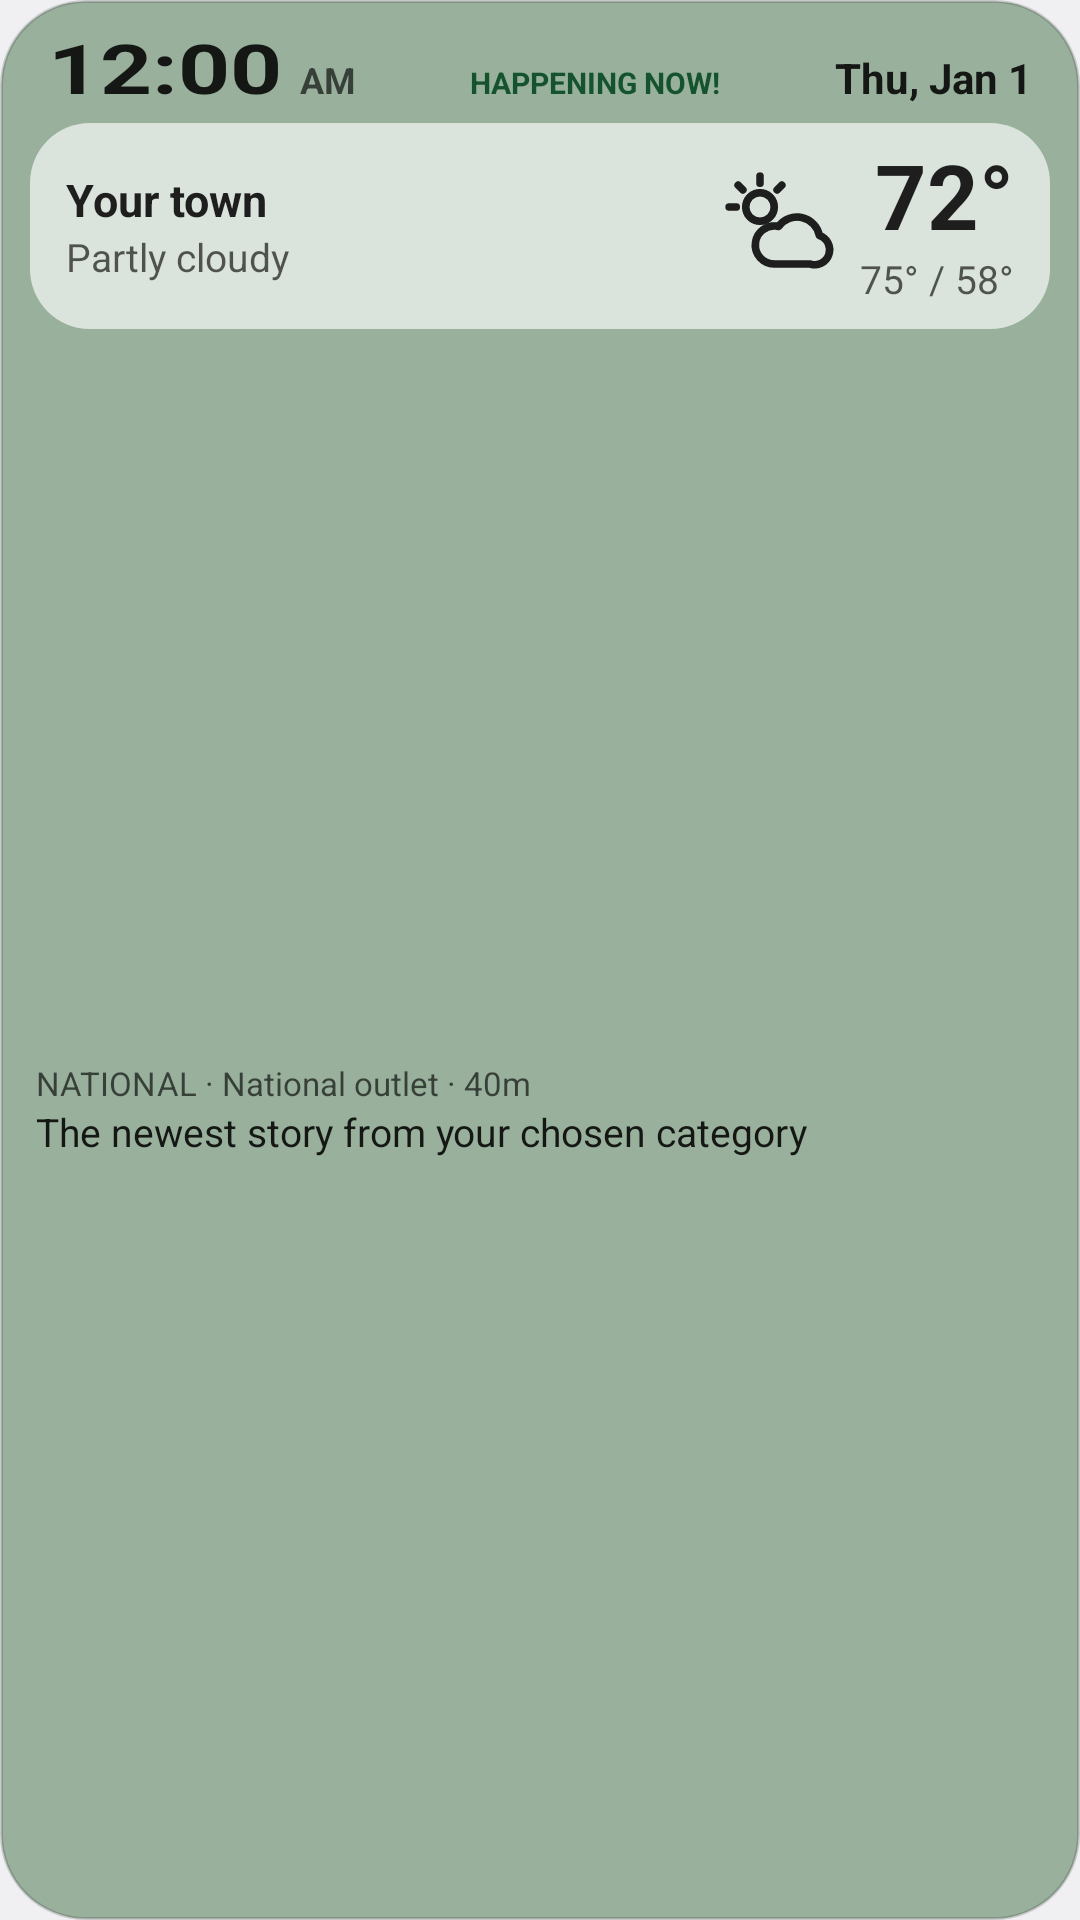

Where icons sit on this 1080px×1920px app screen, as rect(x1, y1, x2, y2):
partly: rect(725, 172, 834, 269)
